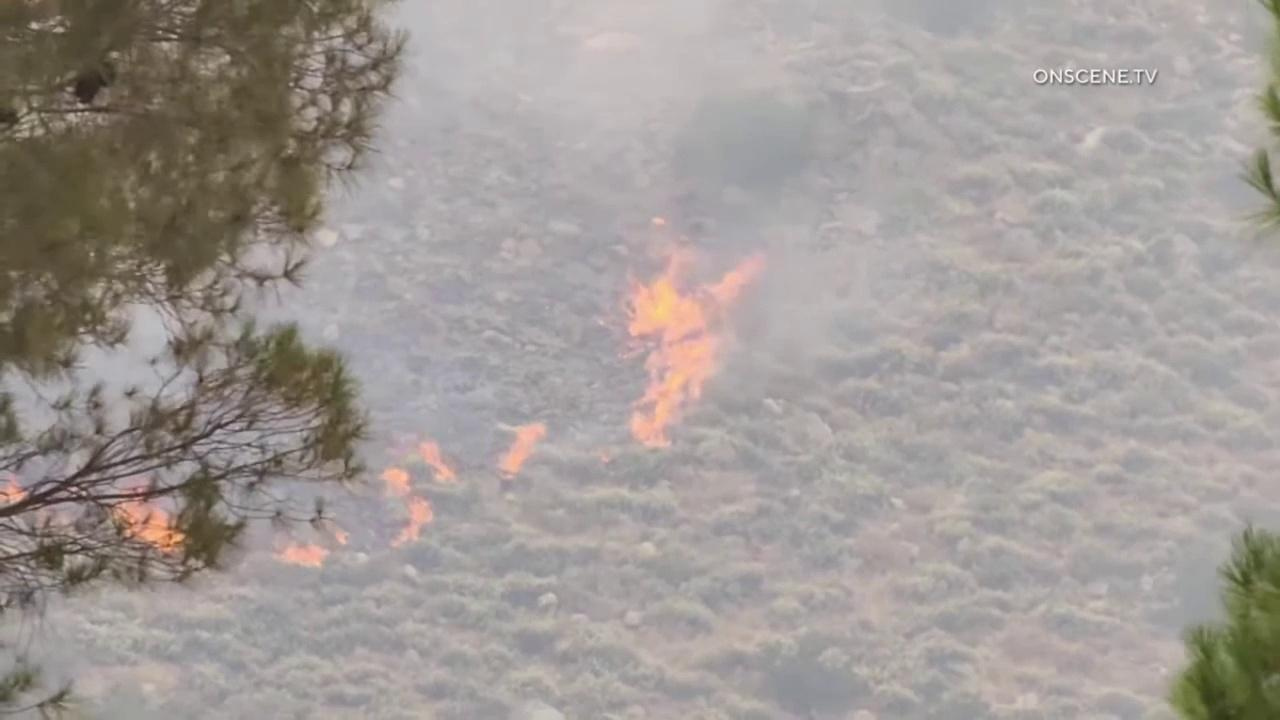fire: (608, 213, 768, 448), (101, 479, 202, 558), (372, 464, 436, 554), (492, 415, 552, 483), (407, 431, 462, 486), (267, 538, 329, 571), (323, 513, 351, 549), (0, 477, 32, 505)
smoke: (0, 0, 1280, 720)
